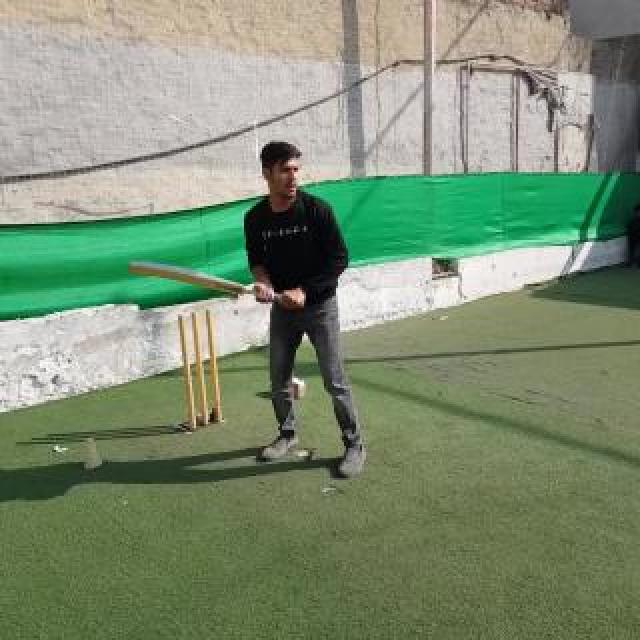bat: (128, 262, 306, 308)
